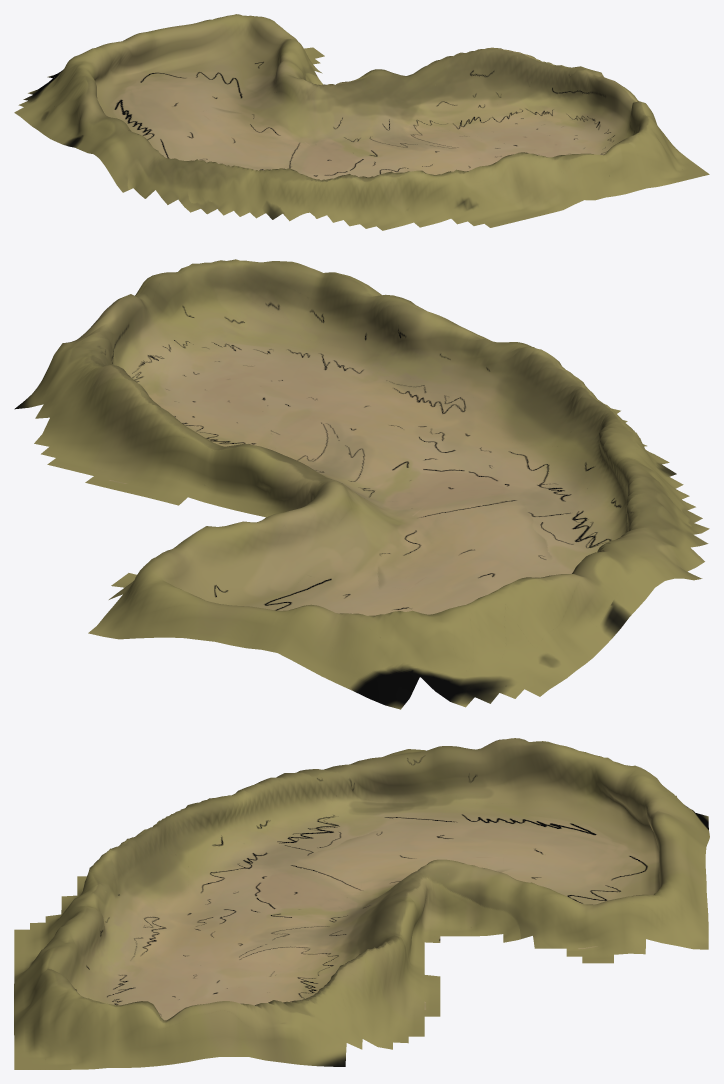
The model's file is testHandPainter.glb.
3 views of the same model, one above another, from view 1: azimuth 30°, elevation 25°; view 2: azimuth 150°, elevation 25°; view 3: azimuth 270°, elevation 25° (orthographic). The views are drawn at different scales.
Visible parts, largest first — view 1: Plane; view 2: Plane; view 3: Plane.
Boxes of the visible parts, bbox=[...] form: Plane: bbox=[14, 14, 709, 230]; Plane: bbox=[14, 259, 709, 709]; Plane: bbox=[14, 738, 709, 1069].
Bounding box in the file's own units: 7.7 × 0.7765 × 7.69.
1 material, 1 textured.
